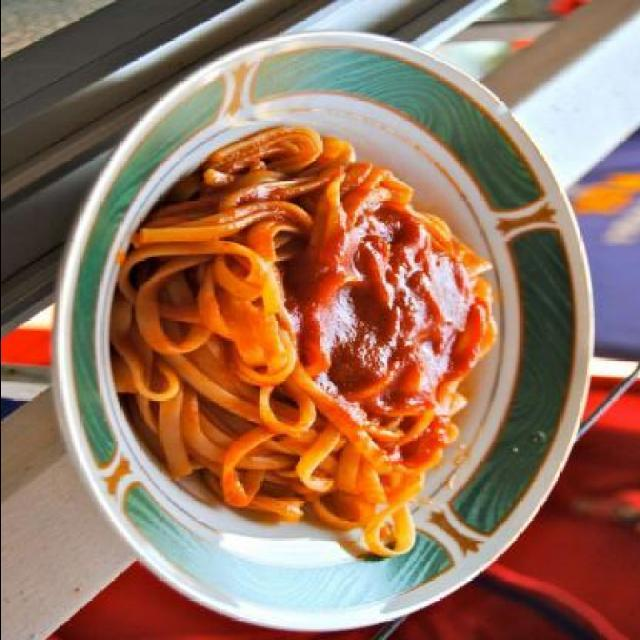Pasta al ragu: (127, 118, 531, 590)
